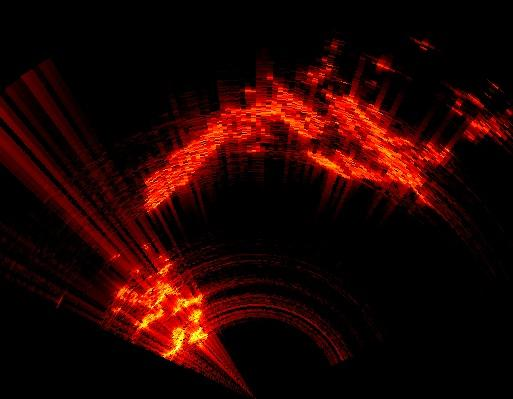shipwreck: (145, 77, 450, 210), (117, 280, 207, 357)
